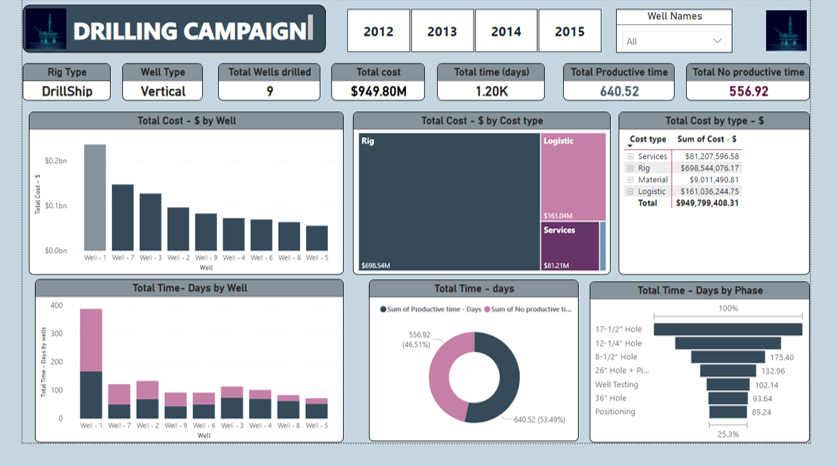

Layout of this report page (visuals, bound fields, positions):
{"tool":"powerbi","page":{"name":"Page 1","canvas":[1280,720],"ordinal":0},"visuals":[{"type":"shape","box":[0,8,493.3,77.9],"z":0},{"type":"textbox","box":[77,19.5,400.3,54],"z":1000},{"type":"card","title":"Total Wells drilled","fields":{"Values":["Drilling Information.Total"]},"box":[317.9,102.7,166.5,61.1],"z":2000},{"type":"image","box":[0,4.8,76,83.2],"z":3000},{"type":"image","box":[1203.5,8,76.2,83.2],"z":4000},{"type":"card","title":"Total cost","fields":{"Values":["Sum(Drilling Cost Total.Cost - $)"]},"box":[502.1,102.7,151.4,61.1],"z":5000},{"type":"card","title":"Total time (days)","fields":{"Values":["Sum(Drilling Time.Total time - Days)"]},"box":[673.9,102.7,175.4,61.1],"z":6000},{"type":"card","title":"Total Productive time","fields":{"Values":["Sum(Drilling Time.Productive time - Days)"]},"box":[878.5,102.7,181.5,61.1],"z":7000},{"type":"card","title":"Total No productive time","fields":{"Values":["Sum(Drilling Time.No productive time - Days)"]},"box":[1078.7,102.7,201,61.1],"z":8000},{"type":"card","title":"Rig Type","fields":{"Values":["Min(Drilling Cost Total.Rig Type)"]},"box":[0,102.7,143.5,61.1],"z":9000},{"type":"card","title":"Well Type","fields":{"Values":["Min(Drilling Cost Total.Well Type)"]},"box":[162.1,102.7,131.1,61.1],"z":10000},{"type":"clusteredColumnChart","title":"Total Cost - $ by Well","fields":{"Category":["Drilling Cost Total.Well"],"Y":["Sum(Drilling Cost Total.Cost - $)"]},"box":[10,182,512,265],"z":11000},{"type":"treemap","title":"Total Cost - $ by Cost type","fields":{"Group":["Drilling Cost Total.Cost type"],"Values":["Sum(Drilling Cost Total.Cost - $)"]},"box":[537,182,419,265],"z":12000},{"type":"pivotTable","title":"Total Cost by type - $","fields":{"Rows":["Drilling Cost Total.Cost type","Drilling Cost Total.Drilling Services"],"Values":["Sum(Drilling Cost Total.Cost - $)"]},"box":[969,182,311,265],"z":13000},{"type":"donutChart","title":"Total Time - days","fields":{"Y":["Sum(Drilling Time.Productive time - Days)","Sum(Drilling Time.No productive time - Days)"]},"box":[563,455,341,263],"z":14000},{"type":"funnel","title":"Total Time - Days by Phase","fields":{"Category":["Drilling Time.Phase"],"Y":["Sum(Drilling Time.Total time - Days)"]},"box":[922,458,358,262],"z":15000},{"type":"slicer","title":"Well Names","fields":{"Values":["Drilling Information.Well"]},"box":[965.3,15.1,188.6,70.8],"z":16000},{"type":"slicer","fields":{"Values":["Drilling Information.Year"]},"box":[502.1,8,463.2,84.1],"z":18000},{"type":"columnChart","title":"Total Time- Days by Well","fields":{"Category":["Drilling Time.Well"],"Y":["Sum(Drilling Time.No productive time - Days)","Sum(Drilling Time.Productive time - Days)"]},"box":[20,454,502,266],"z":18001}]}

Visuals, with their boxes in screenshot pixels (x1, y1, x2, y2), scaled from the page's 1280x720 canvas onto the 837x466 screenshot:
shape: rect(0, 5, 323, 56)
textbox: rect(50, 13, 312, 48)
"Total Wells drilled" card: rect(208, 66, 317, 106)
image: rect(0, 3, 50, 57)
image: rect(787, 5, 836, 59)
"Total cost" card: rect(328, 66, 427, 106)
"Total time (days)" card: rect(441, 66, 555, 106)
"Total Productive time" card: rect(574, 66, 693, 106)
"Total No productive time" card: rect(705, 66, 836, 106)
"Rig Type" card: rect(0, 66, 94, 106)
"Well Type" card: rect(106, 66, 192, 106)
"Total Cost - $ by Well" clusteredColumnChart: rect(7, 118, 341, 289)
"Total Cost - $ by Cost type" treemap: rect(351, 118, 625, 289)
"Total Cost by type - $" pivotTable: rect(634, 118, 836, 289)
"Total Time - days" donutChart: rect(368, 294, 591, 465)
"Total Time - Days by Phase" funnel: rect(603, 296, 836, 465)
"Well Names" slicer: rect(631, 10, 755, 56)
slicer - Drilling Information.Year: rect(328, 5, 631, 60)
"Total Time- Days by Well" columnChart: rect(13, 294, 341, 465)
